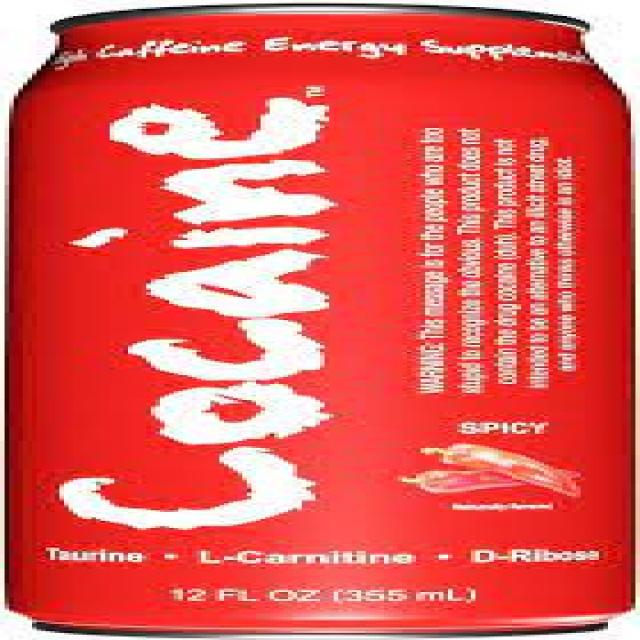Cans: (4, 5, 636, 633)
